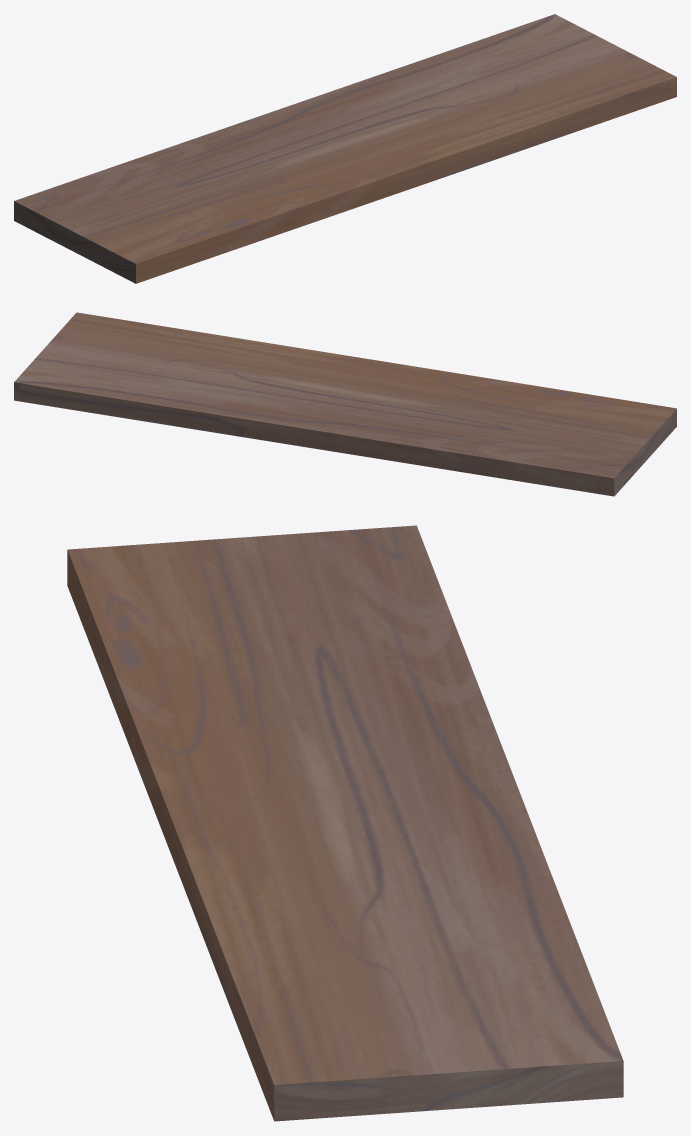
The model's file is plank_026.fbx.
The picture shows the model from 3 angles, top to bottom: view 1: azimuth 30°, elevation 25°; view 2: azimuth 150°, elevation 25°; view 3: azimuth 270°, elevation 25°; orthographic projection. The views are drawn at different scales.
Parts seen in each view (by area): view 1: plank.026; view 2: plank.026; view 3: plank.026.
Boxes of the visible parts, x1=… form: plank.026: x1=14, y1=14, x2=676, y2=283; plank.026: x1=14, y1=312, x2=676, y2=496; plank.026: x1=67, y1=525, x2=623, y2=1121.
Size of the model in its own units: 32.74 by 0.9957 by 13.75.
